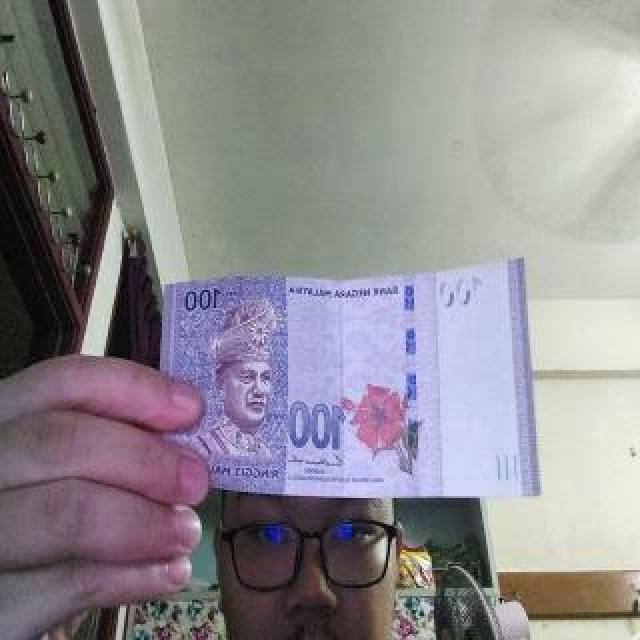100 Ringgit: (130, 254, 553, 501)
